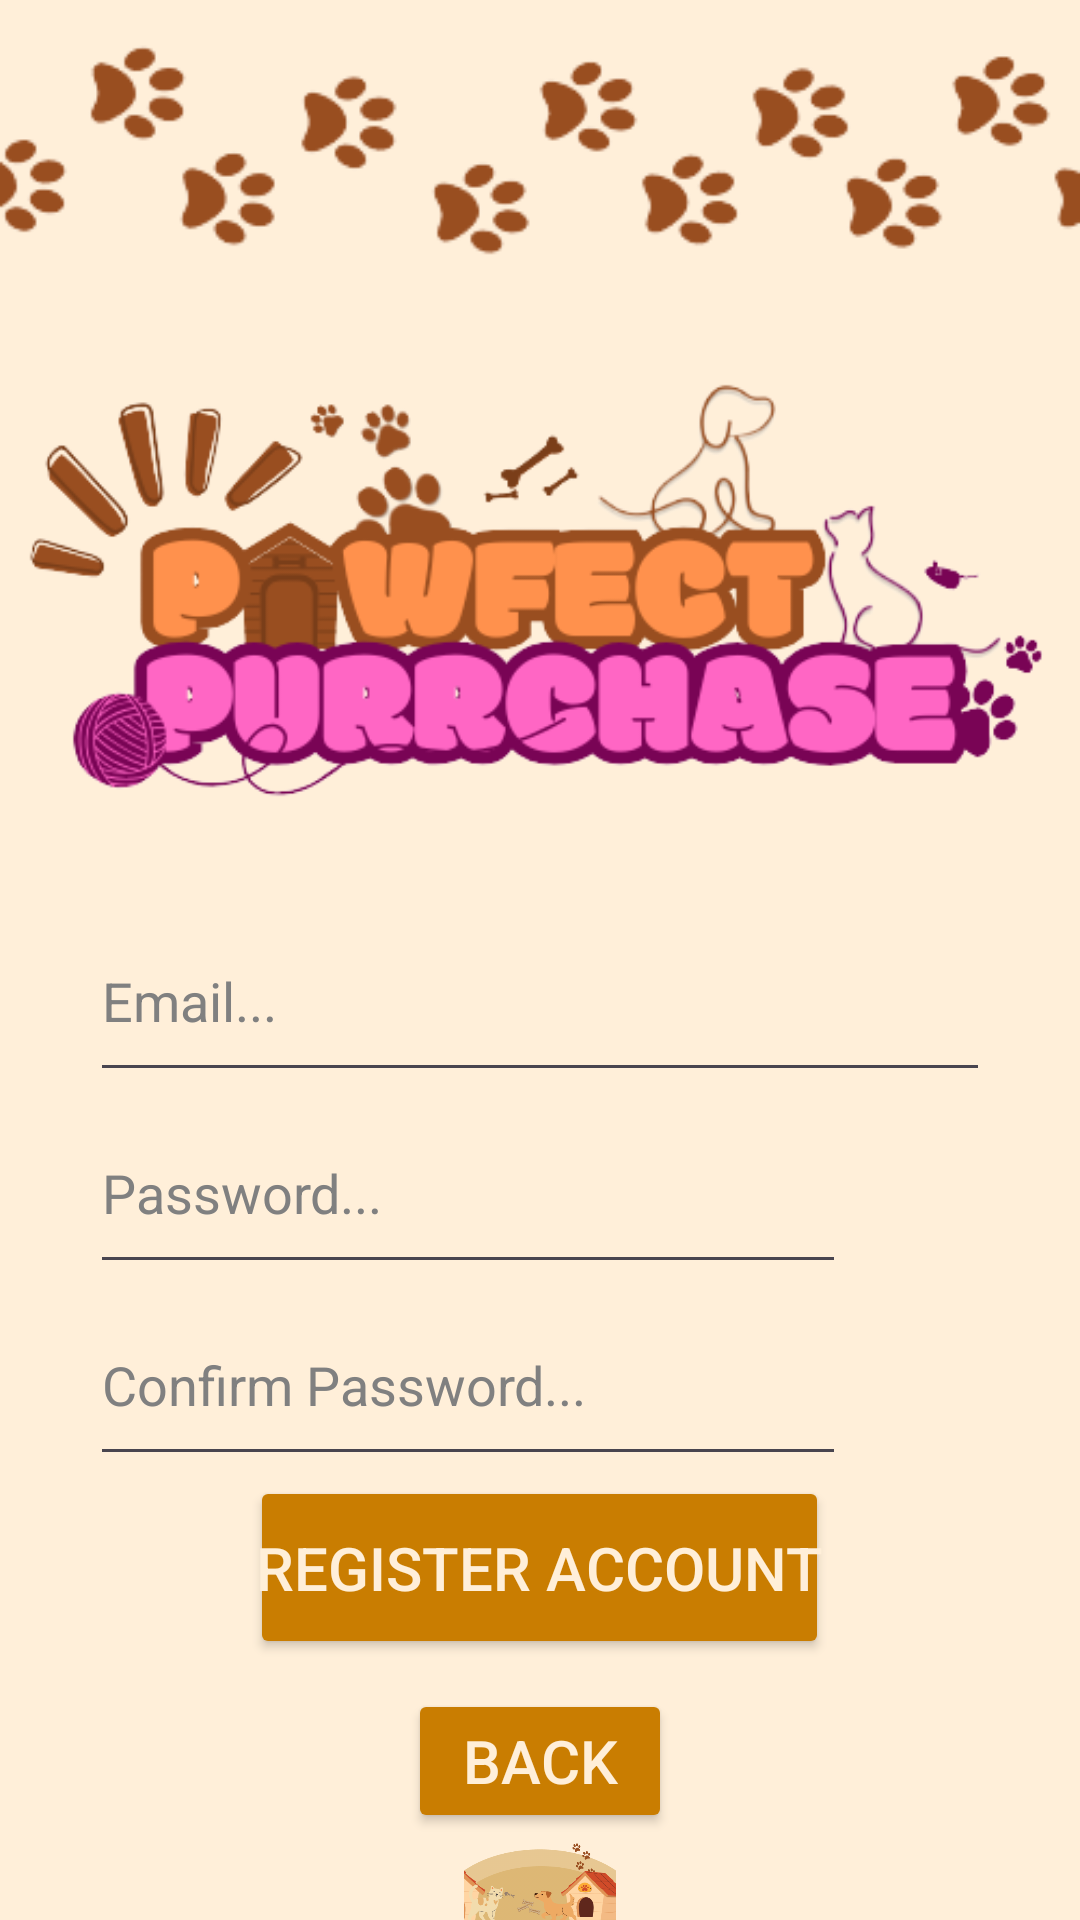

Screen size 1080x1920. Icon name, then its center in pixels as point (x, y):
dog and cat house: point (540, 1881)
